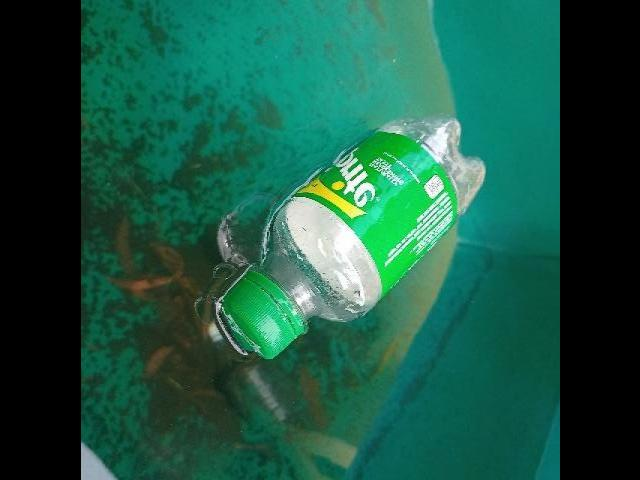Bottle: (207, 107, 490, 368)
